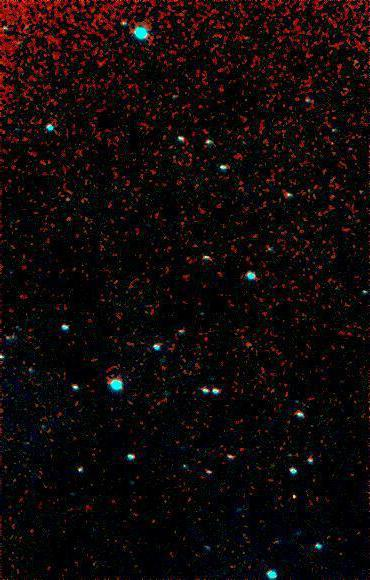star: (280, 481, 310, 511)
